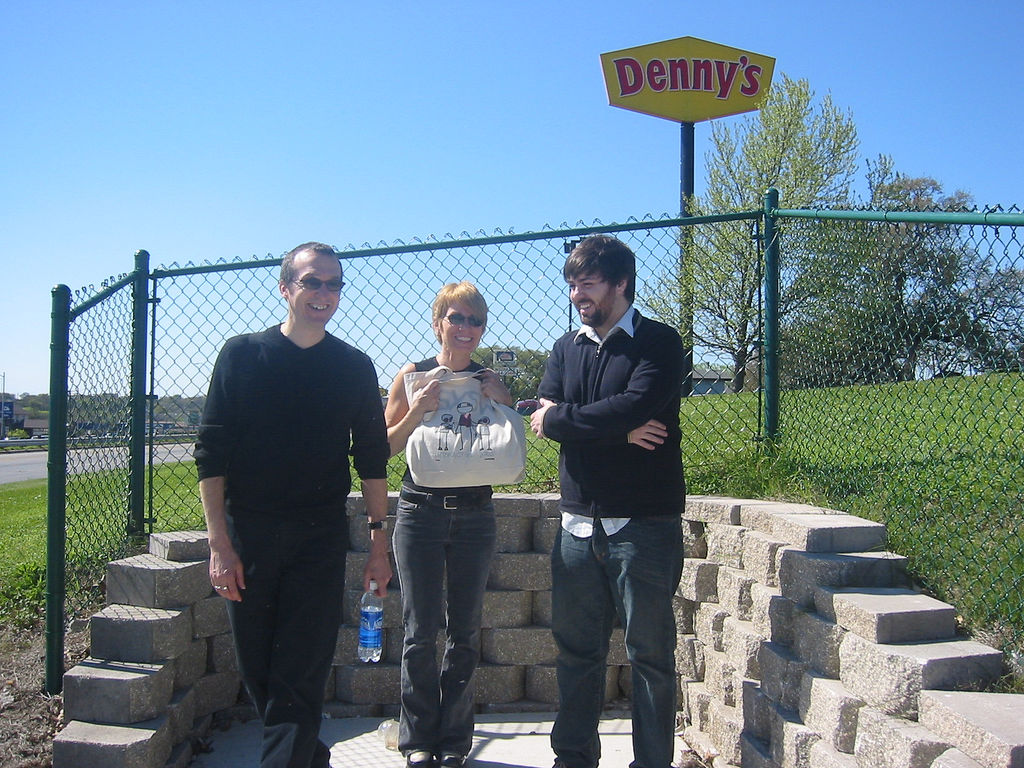head: (558, 233, 642, 338)
